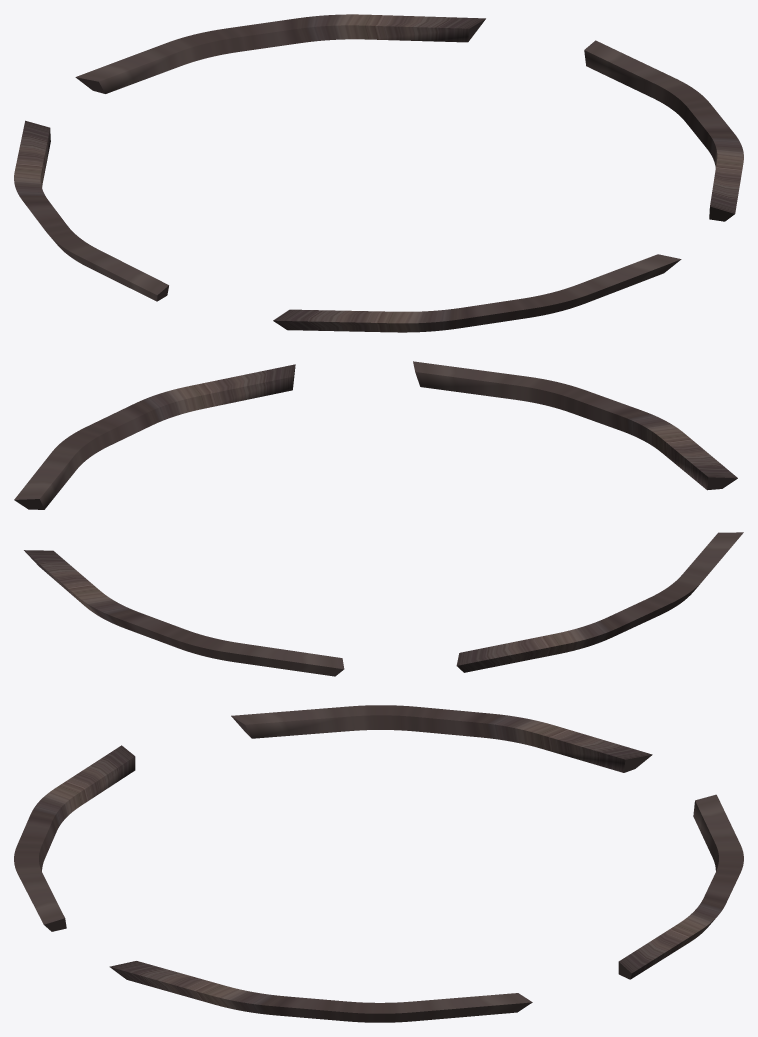
File: rail.FBX
3 renders of one model, top to bottom at view 1: azimuth 30°, elevation 25°; view 2: azimuth 150°, elevation 25°; view 3: azimuth 270°, elevation 25°, orthographic.
Parts seen in each view (by area): view 1: rail003, rail002, rail1, rail004; view 2: rail002, rail1, rail003, rail004; view 3: rail004, rail1, rail002, rail003.
Boxes of the visible parts, x1,y1,x2,y2 form: rail003: (75,14,485,93); rail002: (273,254,681,332); rail1: (584,40,743,221); rail004: (14,120,168,301); rail002: (413,361,737,490); rail1: (14,364,295,509); rail003: (24,550,344,676); rail004: (456,532,743,672); rail004: (231,705,652,772); rail1: (109,961,532,1022); rail002: (14,745,135,931); rail003: (618,794,743,979).
Size of the model in its own units: 241 by 5.22 by 241.
1 material, 1 textured.
